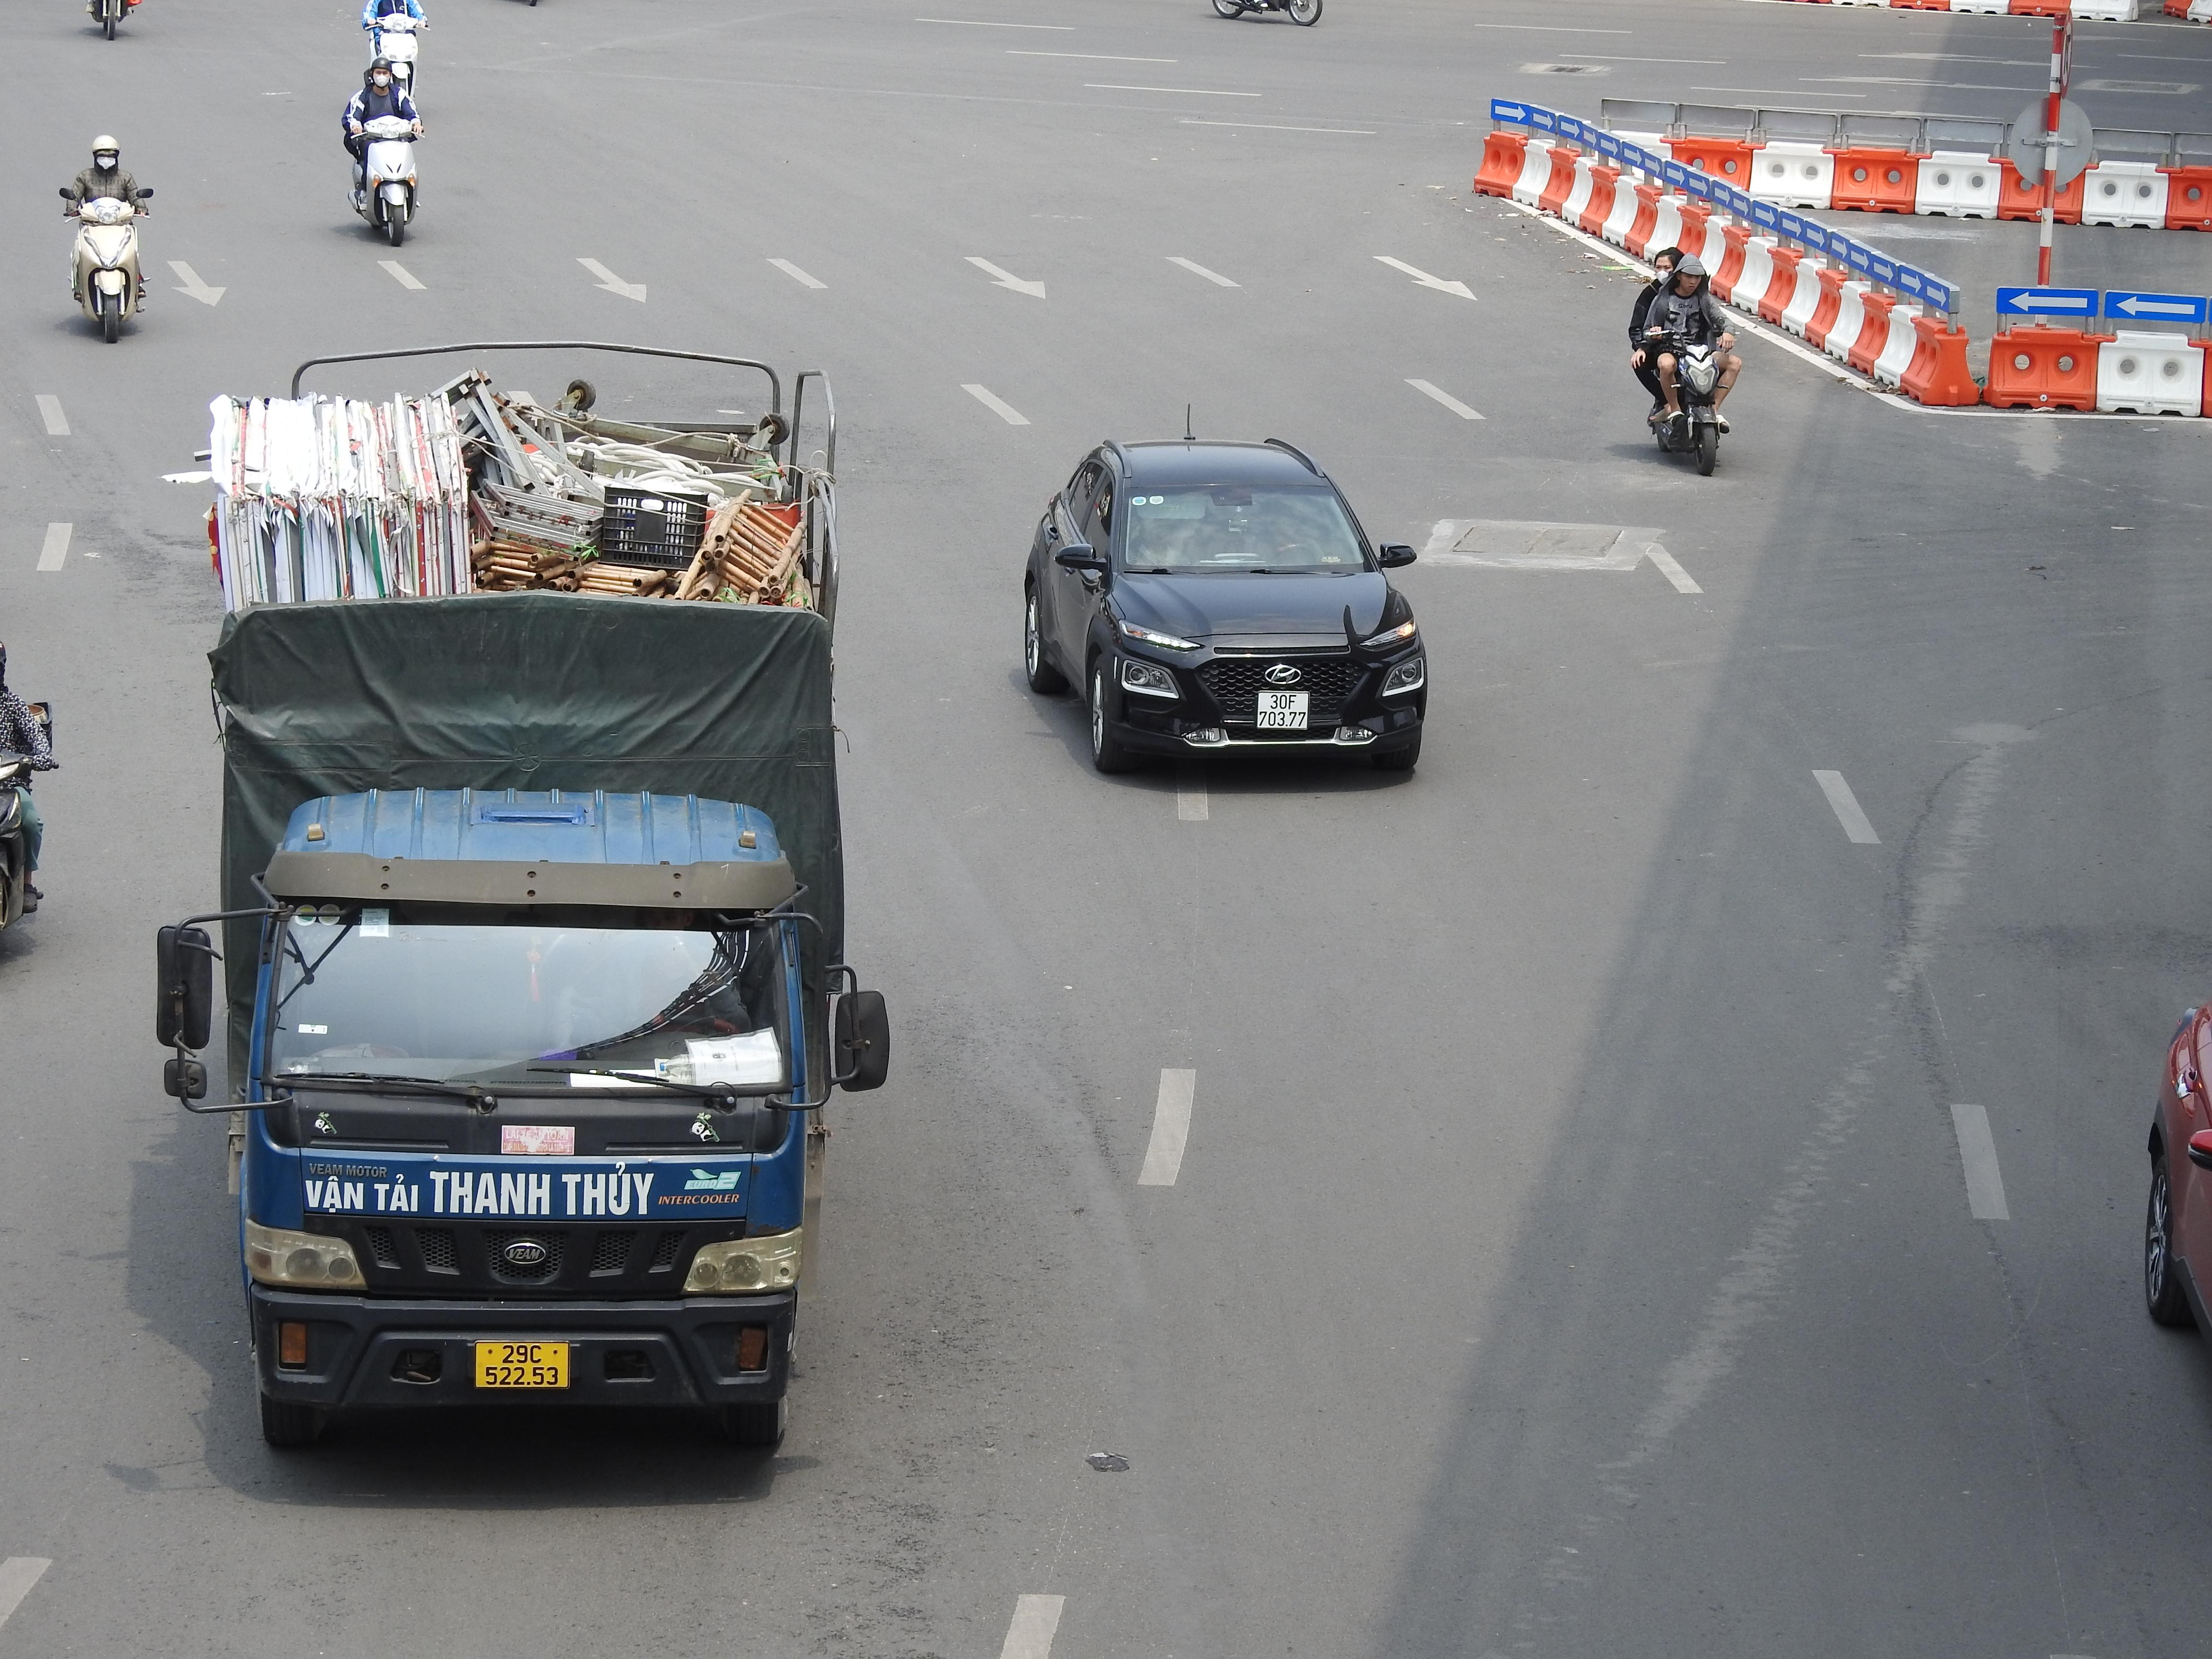BSV: (475, 1342, 570, 1389), (1256, 692, 1308, 730)
car: (1017, 436, 1432, 779)
motorbike: (1630, 247, 1737, 477), (61, 132, 152, 342), (343, 58, 421, 246), (361, 0, 428, 113)
truck: (152, 342, 890, 1455)
